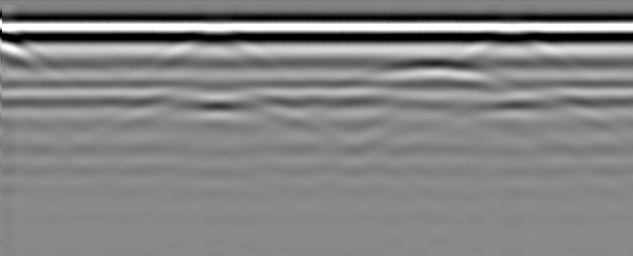pipe: (1, 25, 32, 53)
